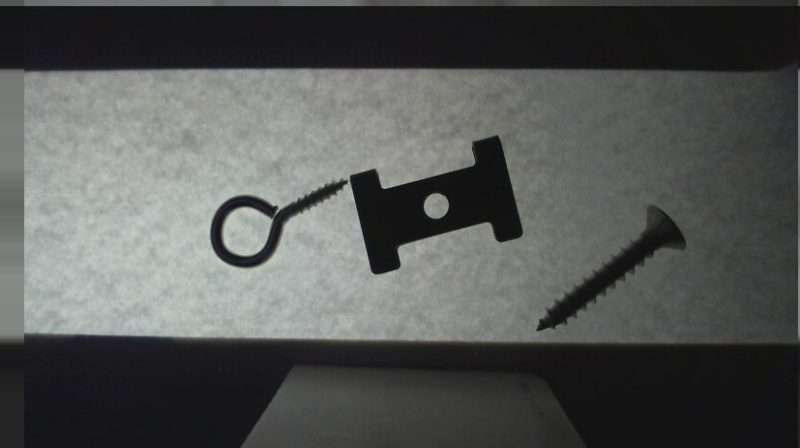O001: (208, 175, 350, 270)
O002: (348, 134, 522, 276)
S001: (534, 202, 685, 334)
